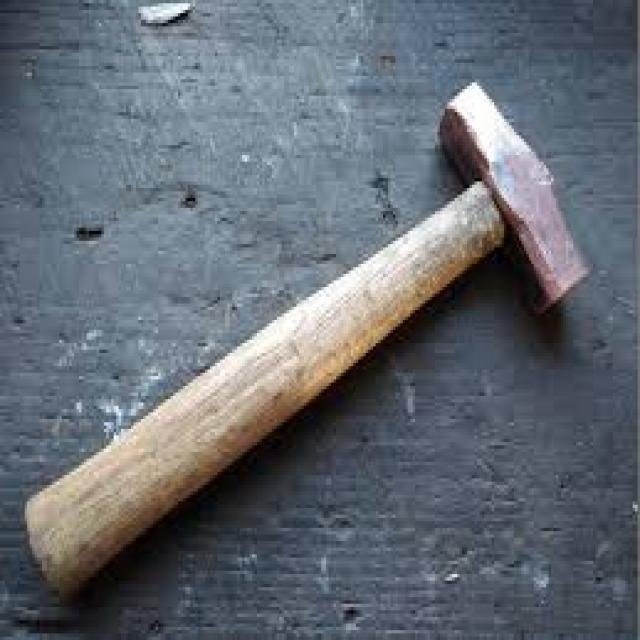hammer: (13, 71, 594, 612)
